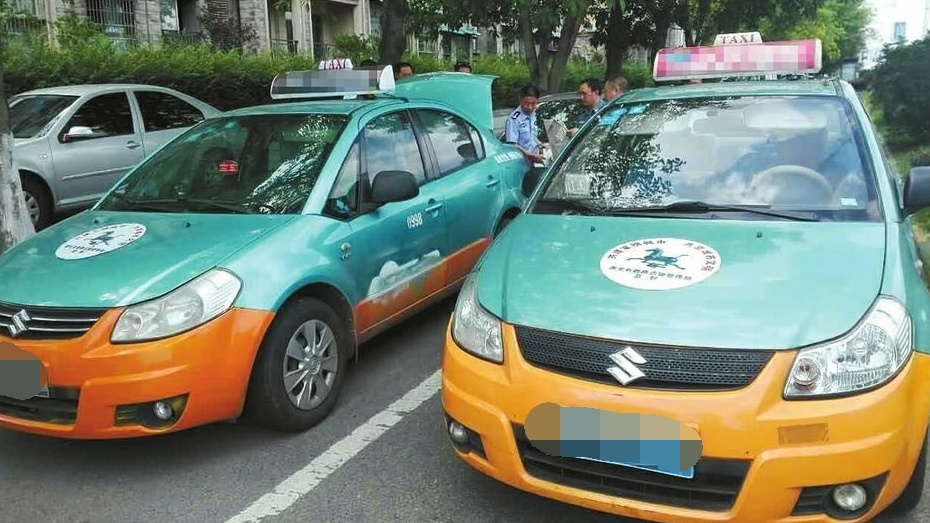taxi: (429, 30, 925, 523)
